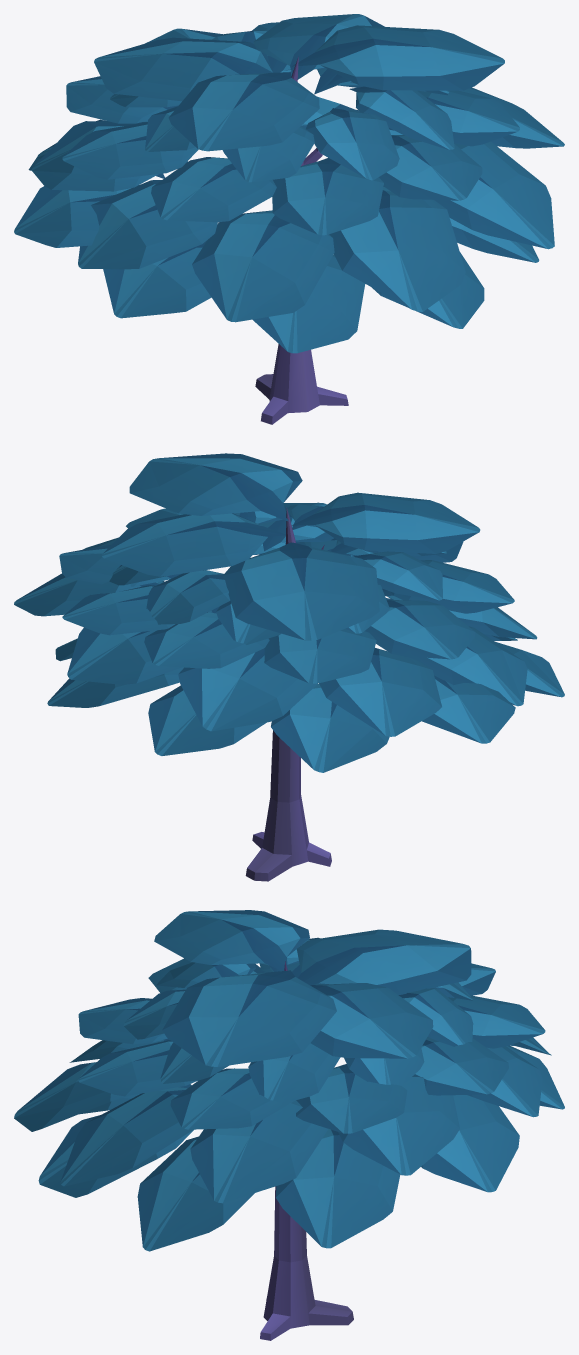
The model's file is Garden_HousePlant10.fbx.
3 views of the same model, one above another, from view 1: azimuth 30°, elevation 25°; view 2: azimuth 150°, elevation 25°; view 3: azimuth 270°, elevation 25° (orthographic). The views are drawn at different scales.
Visible parts, largest first — view 1: Cylinder.222; view 2: Cylinder.222; view 3: Cylinder.222.
Part boxes in pixels (left/top/right/bottom): Cylinder.222: left=14, top=14, right=564, bottom=424; Cylinder.222: left=14, top=453, right=564, bottom=881; Cylinder.222: left=14, top=910, right=564, bottom=1340.
Bounding box in the file's own units: 105 × 75.35 × 102.
